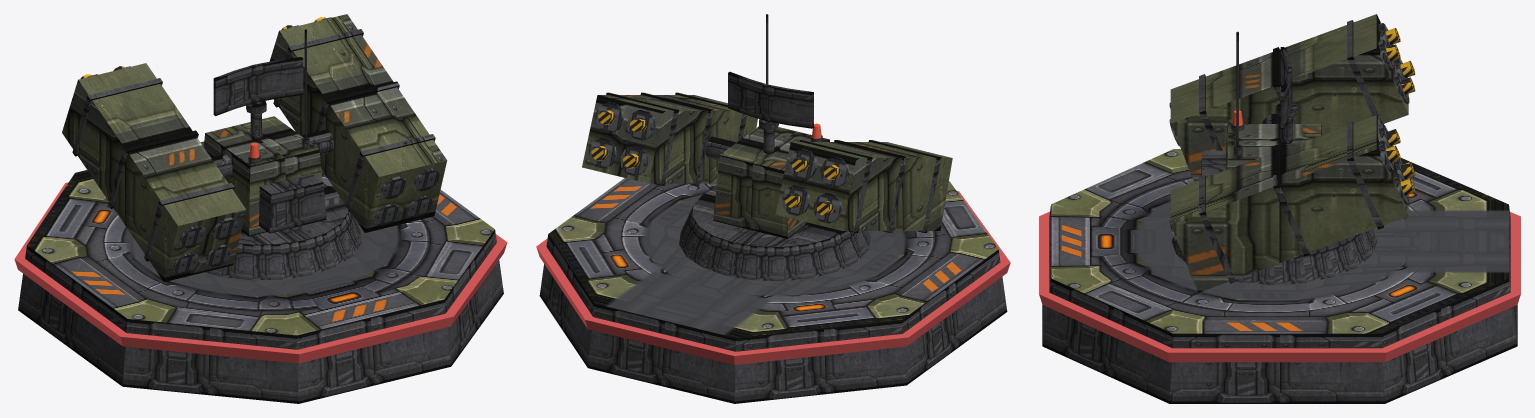
The model's file is samturret.glb.
The picture shows the model from 3 angles, left to right: view 1: azimuth 30°, elevation 25°; view 2: azimuth 150°, elevation 25°; view 3: azimuth 270°, elevation 25°; orthographic projection. The views are drawn at different scales.
Parts seen in each view (by area): view 1: Base, Turret, Dish; view 2: Base, Turret, Dish; view 3: Base, Turret, Dish.
Part boxes in pixels (x1=…): Base: x1=14, y1=141, x2=507, y2=403; Turret: x1=62, y1=14, x2=447, y2=281; Dish: x1=213, y1=57, x2=303, y2=115; Base: x1=536, y1=178, x2=1010, y2=403; Turret: x1=582, y1=14, x2=952, y2=280; Dish: x1=728, y1=71, x2=813, y2=129; Base: x1=1039, y1=149, x2=1520, y2=403; Turret: x1=1169, y1=14, x2=1415, y2=292; Dish: x1=1275, y1=47, x2=1297, y2=128.
Bounding box in the file's own units: 7.51 × 5.2 × 7.86.
Materials: 7 (5 with a texture image).
